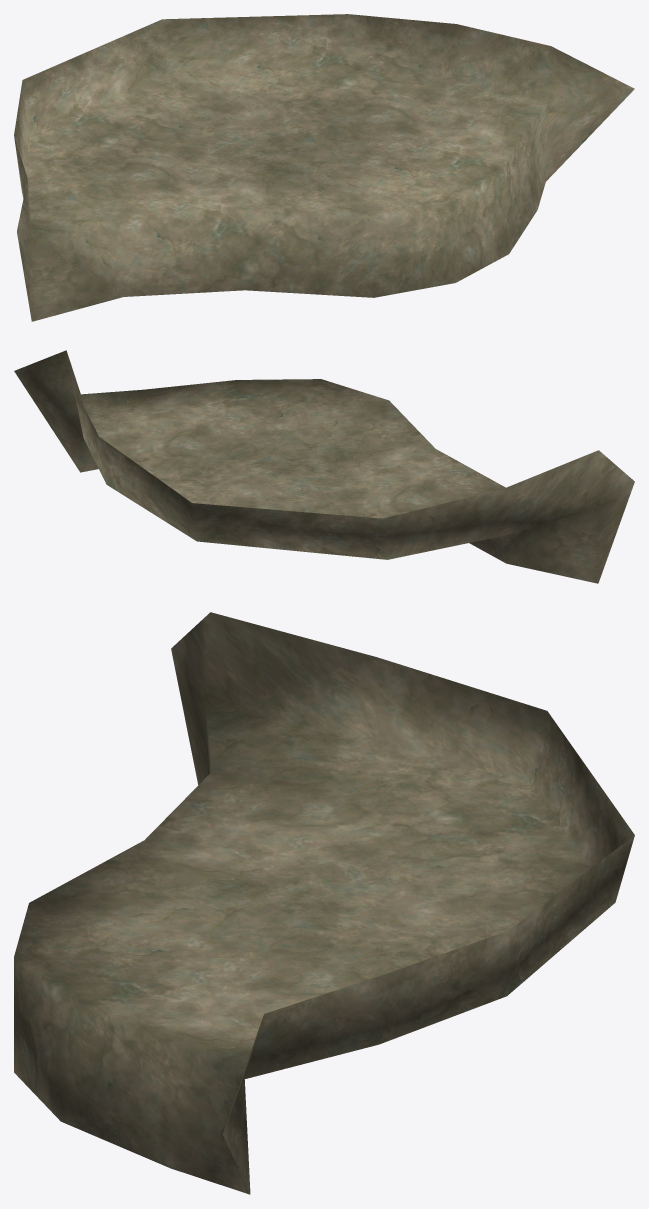
The model's file is EKH_GROTTO_PS_GR_OBJECT01.fbx.
The picture shows the model from 3 angles, top to bottom: view 1: azimuth 30°, elevation 25°; view 2: azimuth 150°, elevation 25°; view 3: azimuth 270°, elevation 25°; orthographic projection. The views are drawn at different scales.
Visible parts, largest first — view 1: EKH_GROTTO_PS_GR_OBJECT01; view 2: EKH_GROTTO_PS_GR_OBJECT01; view 3: EKH_GROTTO_PS_GR_OBJECT01.
Boxes of the visible parts, box(x1,y1,x2,y2) form: EKH_GROTTO_PS_GR_OBJECT01: box(14, 14, 634, 321); EKH_GROTTO_PS_GR_OBJECT01: box(14, 350, 634, 583); EKH_GROTTO_PS_GR_OBJECT01: box(14, 612, 634, 1194).
Size of the model in its own units: 53256 by 11471 by 31145.
1 material, 1 textured.
